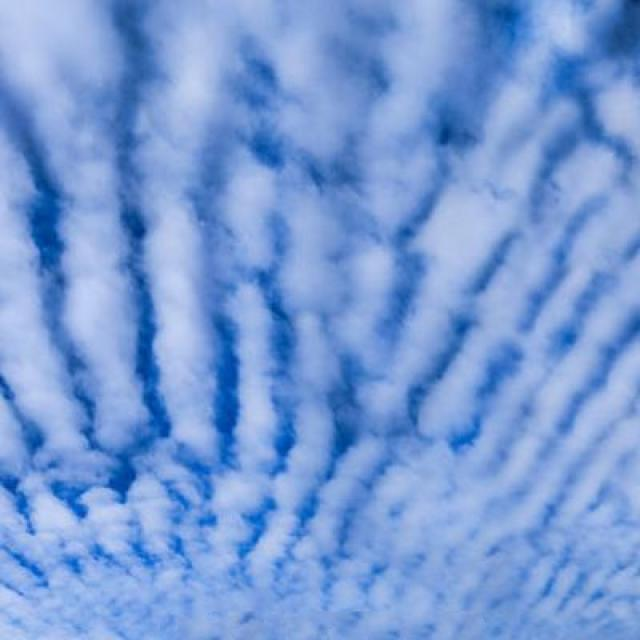St: (1, 5, 640, 640)
